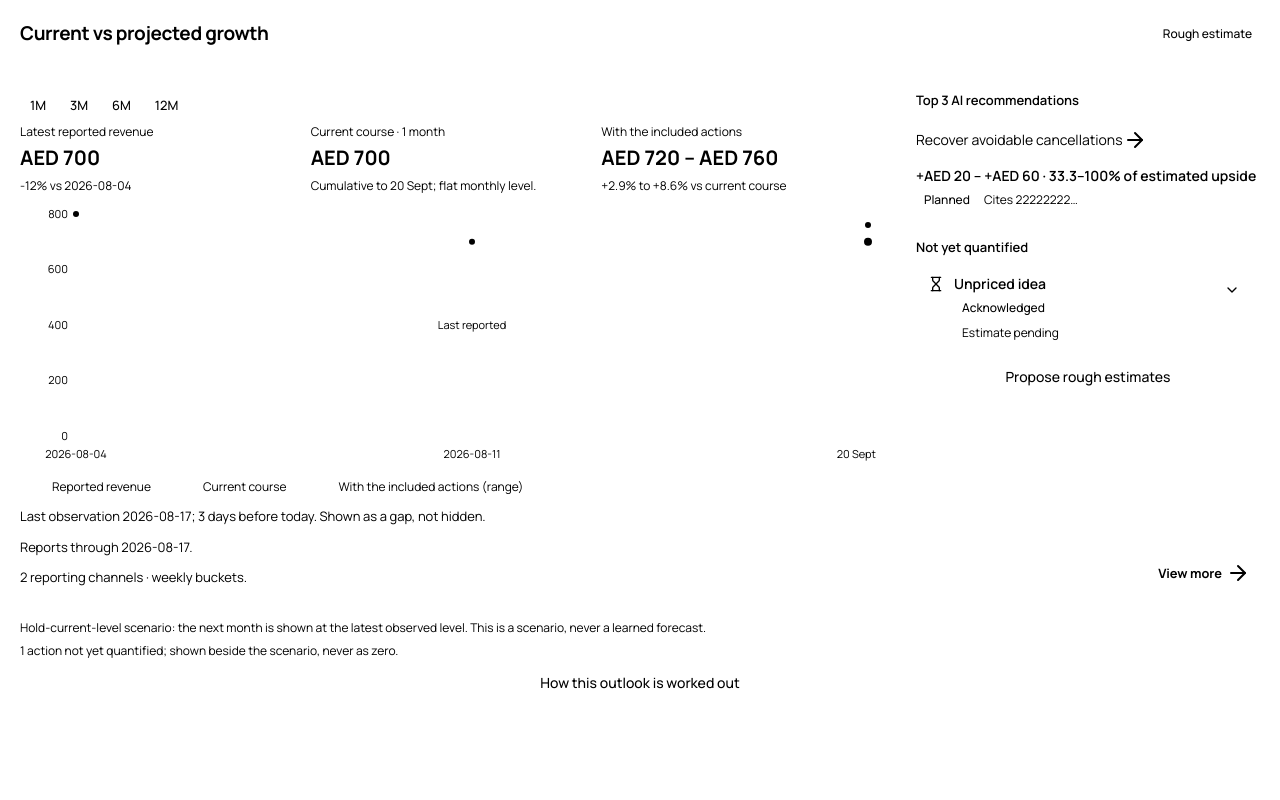
Test: HomeRevenue › reveals the exact server reason on tap and collapses on second tap
Step 1. Click the button named "Show details for Unpriced idea" → (1232, 290), box [1216,274,1248,306]
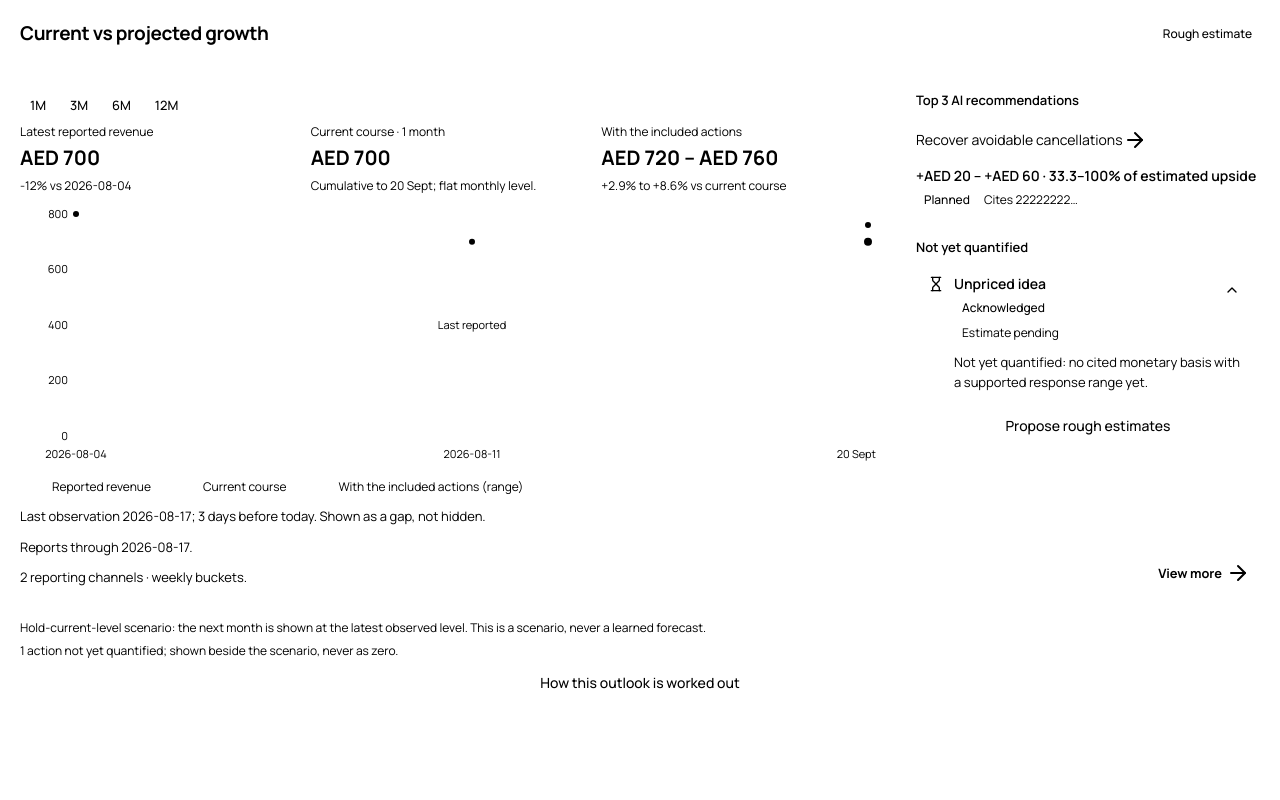
Expected: the button named "Hide details for Unpriced idea" is expanded
Expected: the text "Not yet quantified: no cited monetary basis with a supported response range yet." is shown, [954,353,1240,391]
Step 2. Click the button named "Hide details for Unpriced idea" → (1232, 290), box [1216,274,1248,306]
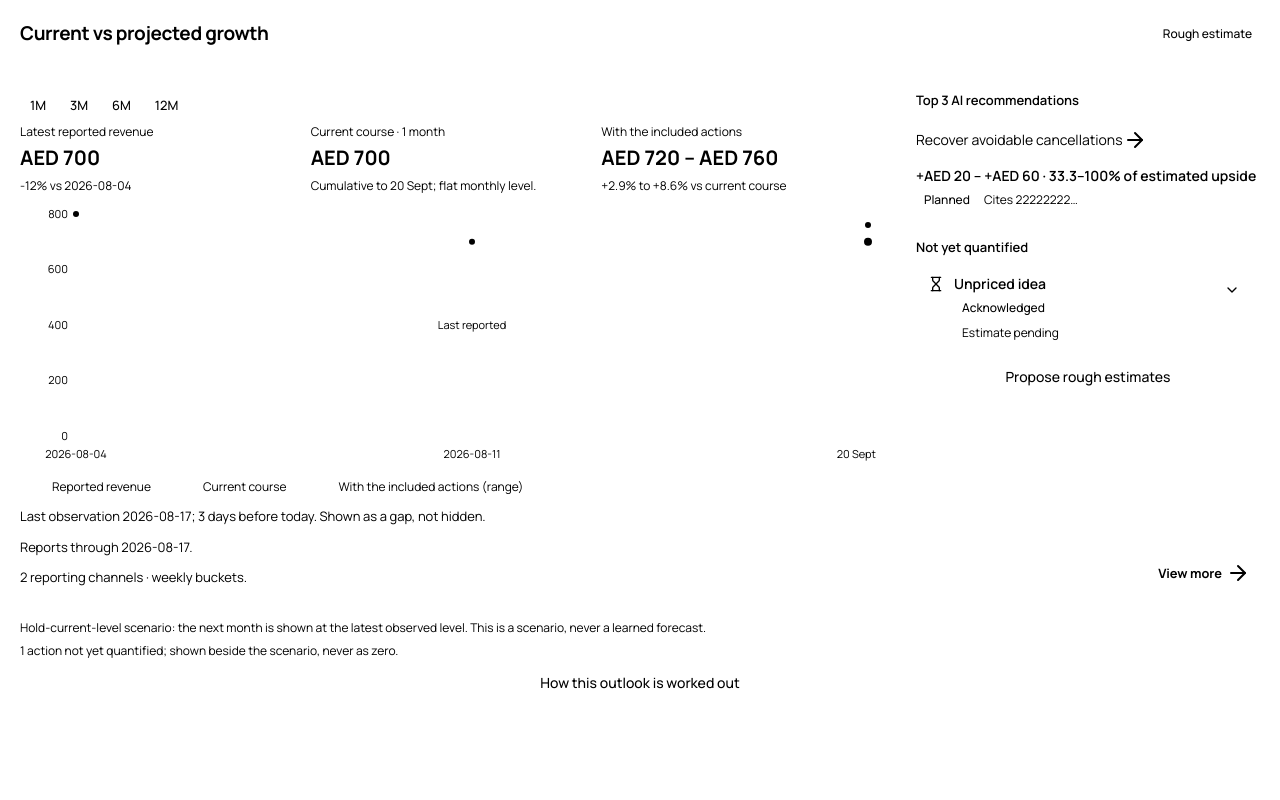
Expected: the button named "Show details for Unpriced idea" is collapsed, [1216,274,1248,306]
Expected: the text "no cited monetary basis" is gone
